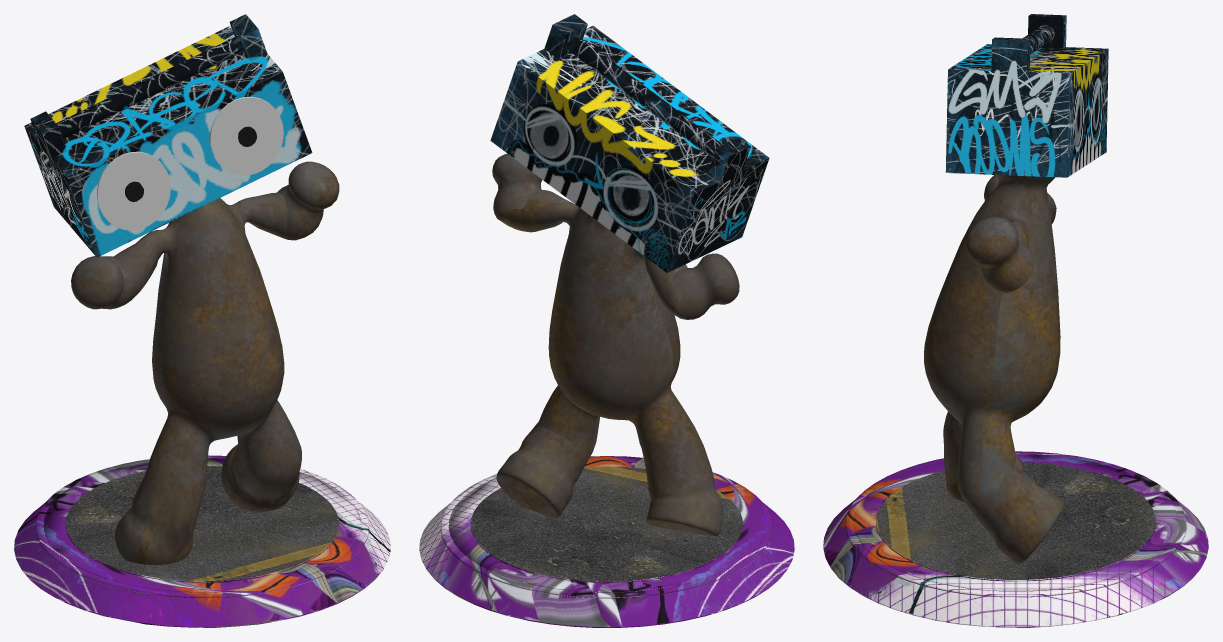
3 renders of one model, left to right at view 1: azimuth 30°, elevation 25°; view 2: azimuth 150°, elevation 25°; view 3: azimuth 270°, elevation 25°, orthographic. The views are drawn at different scales.
Visible parts, largest first — view 1: BBody; view 2: BBody; view 3: BBody.
Boxes of the visible parts, x1,y1,x2,y2 form: BBody: [14, 14, 390, 627]; BBody: [419, 14, 794, 627]; BBody: [823, 14, 1208, 627].
Size of the model in its own units: 1.45 by 2.2 by 1.45.
Materials: 6 (4 with a texture image).
